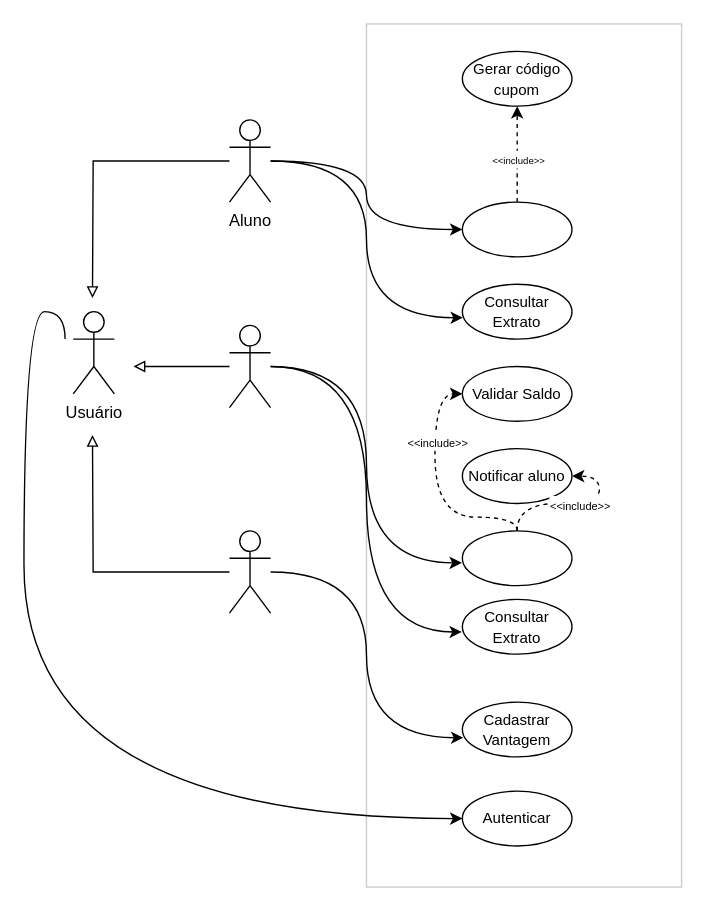
This 706x911 diagram has some shape labels left out. Here are the shapes that lost their labels. From the top down, the centre of each, then its label:
At (516,229): "Resgatar Vantagem".
At (249,366): "Professor".
At (249,571): "Empresa Parceira".
At (516,558): "Enviar Moedas".
